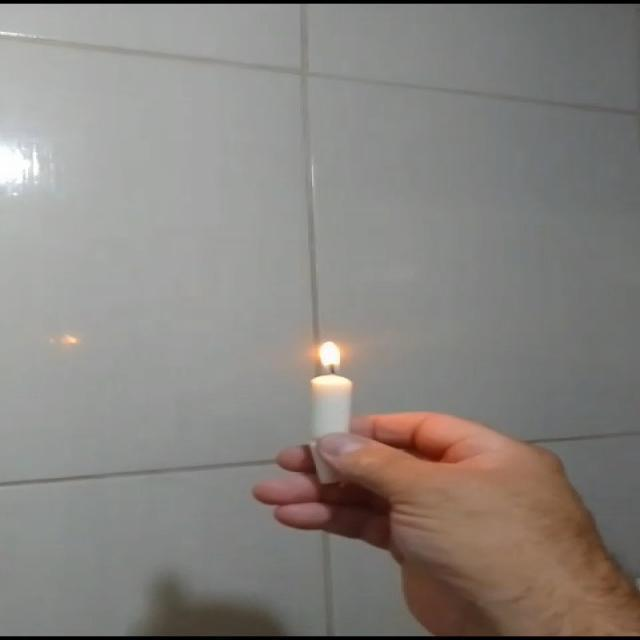fire: (312, 336, 348, 375)
